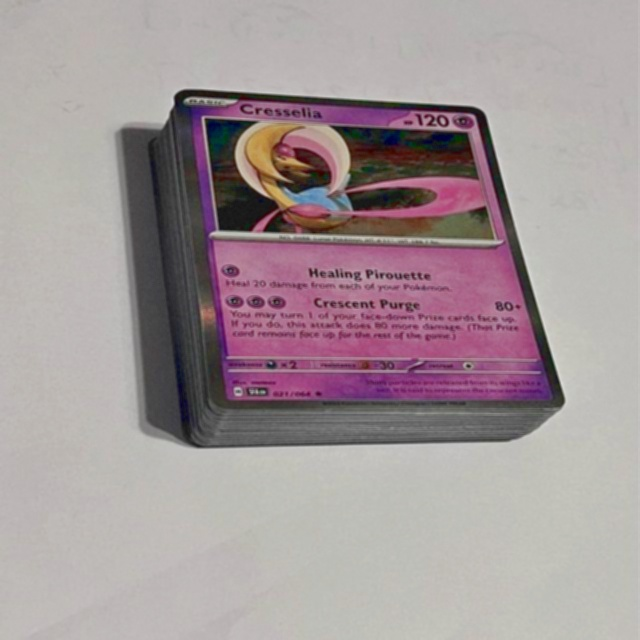card: (173, 88, 567, 410)
